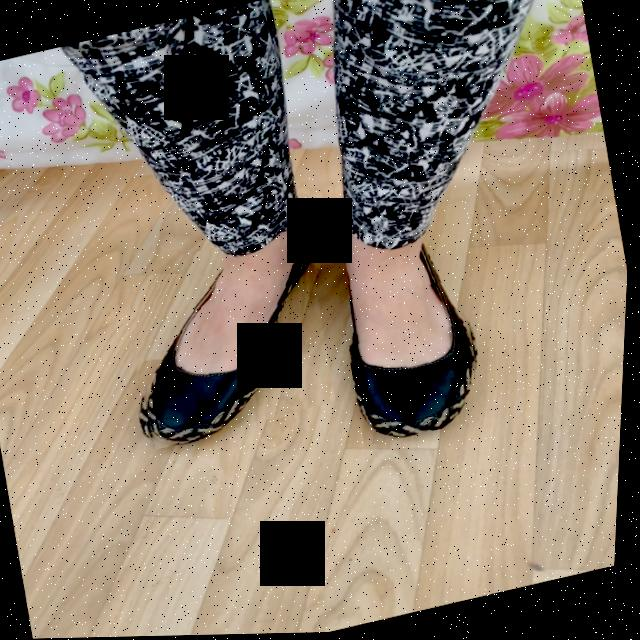shoe: (150, 229, 313, 443), (346, 233, 480, 439)
